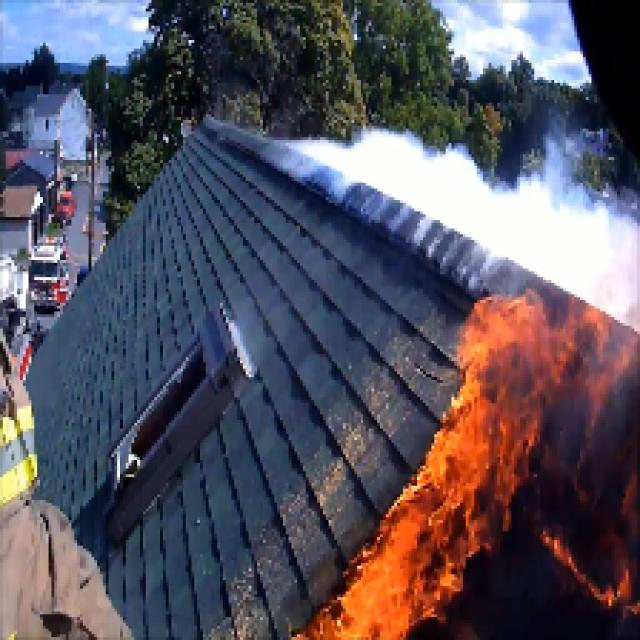fire: (442, 313, 545, 507), (360, 510, 466, 628)
smoke: (378, 141, 627, 284)
